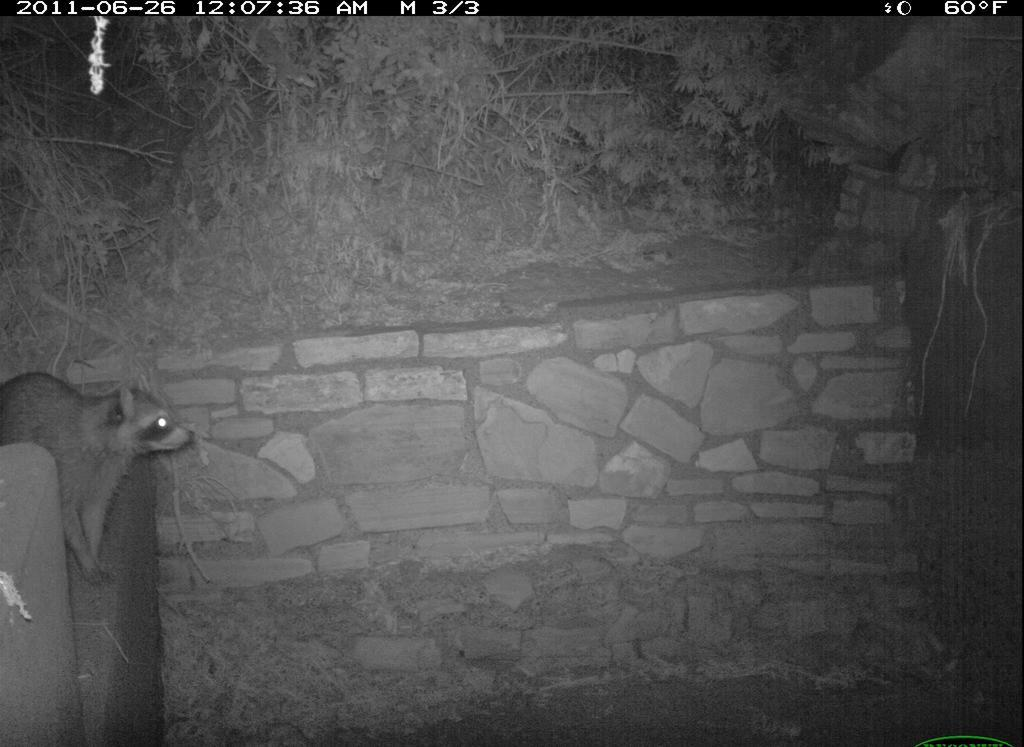raccoon: (1, 368, 210, 592)
